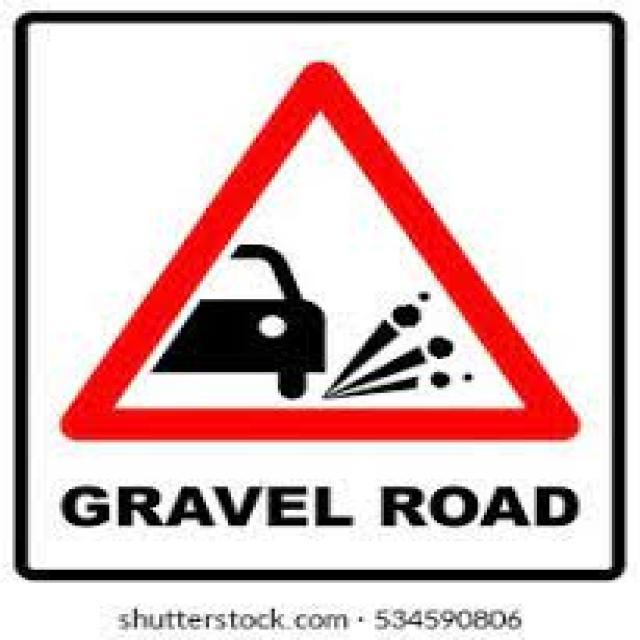loose gravel: (67, 56, 581, 439)
